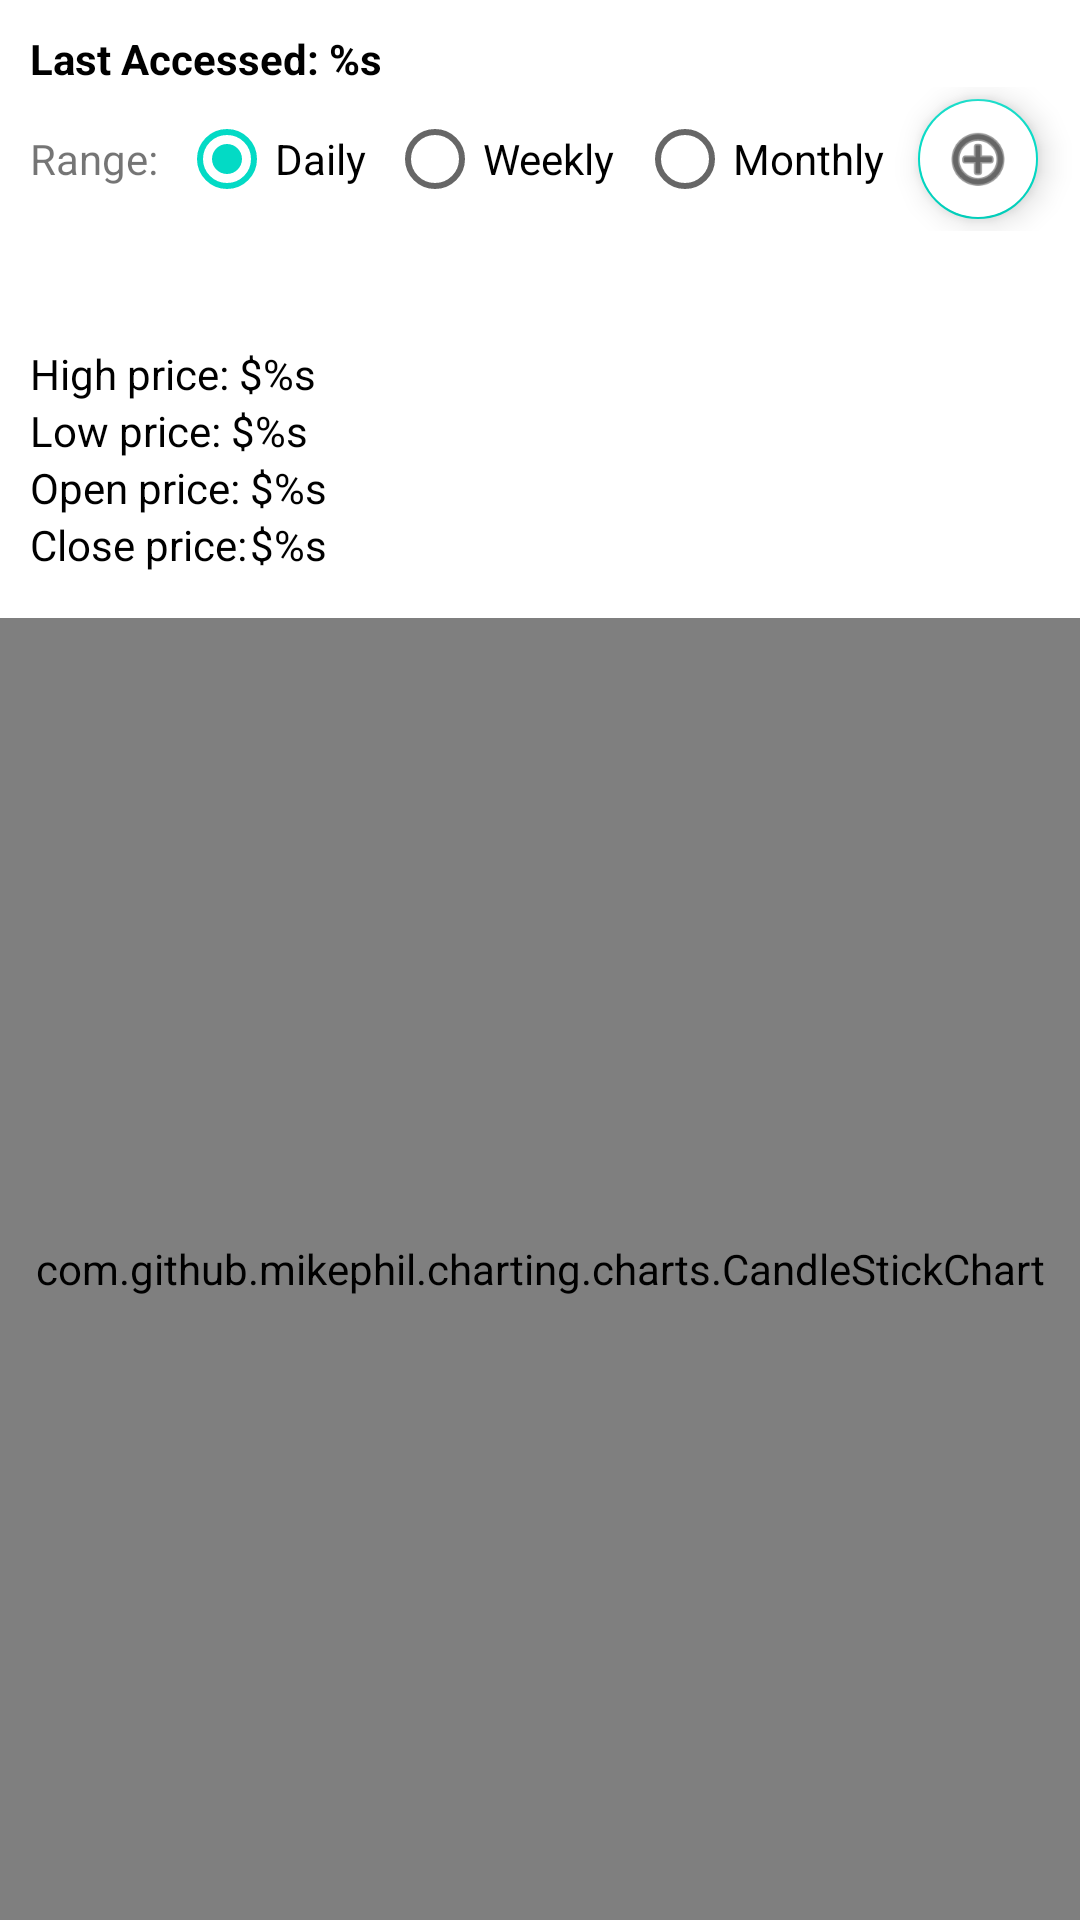

Named icons in this screenshot (1080*1920) and their bounding boxes, (x1, y1, x2, y2):
add: (918, 99, 1040, 220)
